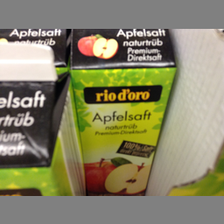juice: (71, 29, 178, 195)
